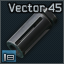KRISS Vector .45 ACP flash hider: (0, 0, 64, 64)
